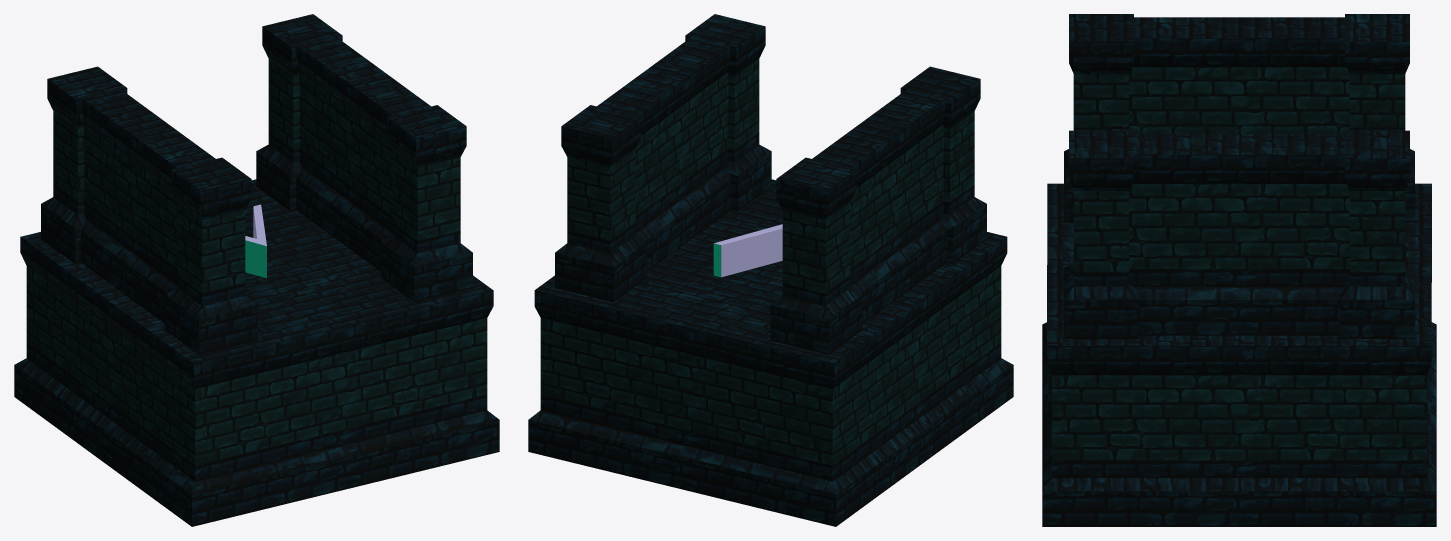
File: debug-hall.glb
3 renders of one model, left to right at view 1: azimuth 30°, elevation 25°; view 2: azimuth 150°, elevation 25°; view 3: azimuth 270°, elevation 25°, orthographic. The views are drawn at different scales.
Parts seen in each view (by area): view 1: mergedBlocks(Clone); view 2: mergedBlocks(Clone); view 3: mergedBlocks(Clone).
Boxes of the visible parts, left/top/right/bottom form: mergedBlocks(Clone): left=14, top=14, right=499, bottom=526; mergedBlocks(Clone): left=528, top=14, right=1013, bottom=526; mergedBlocks(Clone): left=1042, top=14, right=1436, bottom=526.
Size of the model in its own units: 2 by 2 by 2.
4 materials, 2 textured.
